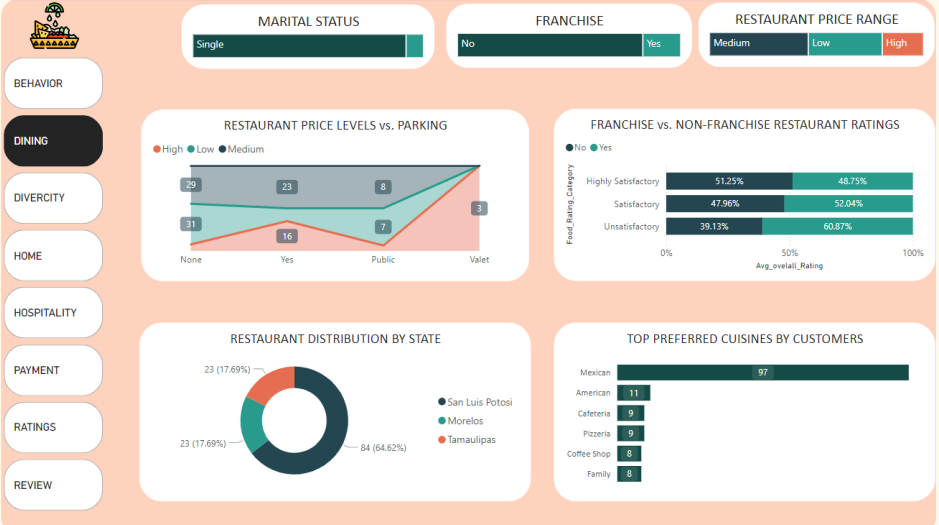

The page's visual inventory and layout, read from the dashboard file:
{"tool":"powerbi","page":{"name":"DINING","canvas":[1280,720],"ordinal":1},"visuals":[{"type":"treemap","title":"MARITAL STATUS","fields":{"Values":["CountNonNull(consumers.Marital_Status)"],"Group":["consumers.Marital_Status"]},"box":[255,10,340,86.2],"z":0},{"type":"treemap","title":"FRANCHISE","fields":{"Values":["CountNonNull(restaurants.Franchise)"],"Group":["restaurants.Franchise"]},"box":[610,8.8,330,86.2],"z":1000},{"type":"treemap","title":"RESTAURANT PRICE RANGE","fields":{"Group":["restaurants.Price"],"Values":["CountNonNull(restaurants.Price)"]},"box":[950,7.5,317.5,86.2],"z":2000},{"type":"hundredPercentStackedAreaChart","title":"RESTAURANT PRICE LEVELS vs. PARKING","fields":{"Category":["restaurants.Parking"],"Series":["restaurants.Price"],"Y":["CountNonNull(restaurants.Restaurant_ID)"]},"box":[200,151.2,521.2,230],"z":3000},{"type":"donutChart","title":"RESTAURANT DISTRIBUTION BY STATE","fields":{"Category":["restaurants.State"],"Y":["CountNonNull(restaurants.Restaurant_ID)"]},"box":[197.5,436.2,526.2,240],"z":4000},{"type":"barChart","title":"TOP PREFERRED CUISINES BY CUSTOMERS","fields":{"Category":["consumer_preferences.Preferred_Cuisine"],"Y":["CountNonNull(consumer_preferences.Consumer_ID)"]},"box":[755,436.2,512.5,240],"z":5000},{"type":"hundredPercentStackedBarChart","title":"FRANCHISE vs. NON-FRANCHISE RESTAURANT RATINGS","fields":{"Y":["restaurants.Avg_ovelall_Rating"],"Series":["restaurants.Franchise"],"Category":["ratings.Food_Rating_Category"]},"box":[755,150,512.5,231.2],"z":6000},{"type":"image","box":[0,0,167.5,76.2],"z":7000},{"type":"advancedSlicerVisual","fields":{"Values":["Table.pages"]},"box":[11.2,76.2,143.8,620],"z":8000}]}

Visuals, with their boxes in screenshot pixels (x1, y1, x2, y2), scaled from the page's 1280x720 canvas onto the 939x525 screenshot:
"MARITAL STATUS" treemap: rect(187, 7, 436, 70)
"FRANCHISE" treemap: rect(447, 6, 690, 69)
"RESTAURANT PRICE RANGE" treemap: rect(697, 5, 930, 68)
"RESTAURANT PRICE LEVELS vs. PARKING" hundredPercentStackedAreaChart: rect(147, 110, 529, 278)
"RESTAURANT DISTRIBUTION BY STATE" donutChart: rect(145, 318, 531, 493)
"TOP PREFERRED CUISINES BY CUSTOMERS" barChart: rect(554, 318, 930, 493)
"FRANCHISE vs. NON-FRANCHISE RESTAURANT RATINGS" hundredPercentStackedBarChart: rect(554, 109, 930, 278)
image: rect(0, 0, 123, 56)
advancedSlicerVisual - Table.pages: rect(8, 56, 114, 508)
